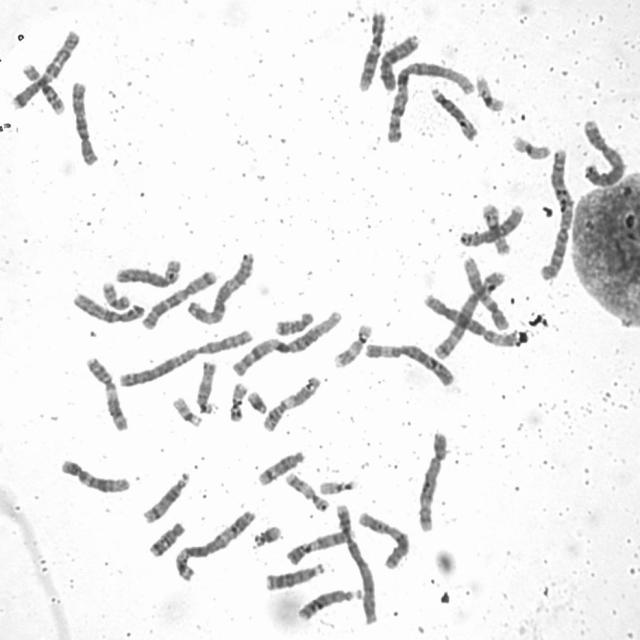A1: (228, 305, 346, 378), (381, 56, 478, 144)
A2: (114, 325, 255, 389), (536, 144, 576, 282)
A3: (172, 504, 259, 584), (184, 247, 257, 326)
B4: (332, 498, 381, 627), (580, 115, 629, 189)
B5: (433, 265, 508, 361), (414, 427, 451, 533)
C10: (69, 288, 147, 326), (68, 76, 100, 166)
C11: (82, 352, 130, 433), (260, 372, 323, 433)
C12: (459, 252, 511, 332), (57, 454, 133, 494)
C6: (419, 288, 518, 346), (362, 338, 457, 388)
C7: (8, 25, 82, 111), (140, 266, 220, 332)
C8: (457, 200, 527, 248), (111, 254, 184, 288)
C9: (284, 522, 357, 566), (354, 6, 388, 93)
D13: (294, 584, 364, 622), (262, 558, 326, 592)
D14: (140, 468, 192, 525), (255, 446, 308, 487)
D15: (426, 83, 479, 142), (192, 357, 220, 415)
E16: (18, 58, 66, 115), (478, 199, 512, 256)
E17: (282, 468, 331, 512), (331, 319, 374, 369)
E18: (146, 517, 188, 558), (272, 306, 316, 337)
F19: (472, 71, 507, 113), (508, 130, 552, 161)
F20: (98, 278, 131, 310), (226, 378, 249, 423)
G21: (249, 521, 284, 549), (243, 386, 270, 415)
G22: (170, 392, 204, 428), (316, 475, 359, 495)
X: (356, 508, 412, 570), (375, 29, 421, 92)
